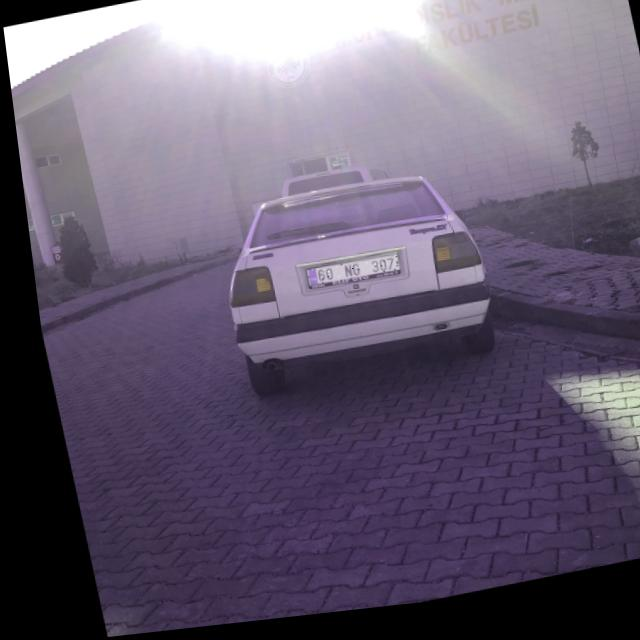license_plate: (297, 260, 392, 293)
